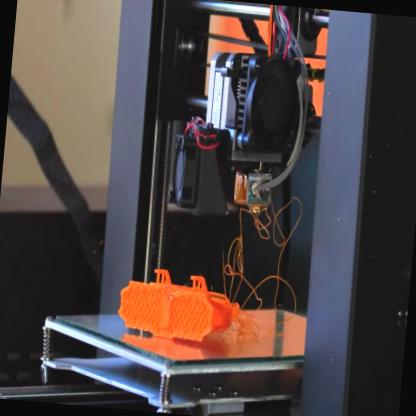fail: (223, 205, 303, 315)
